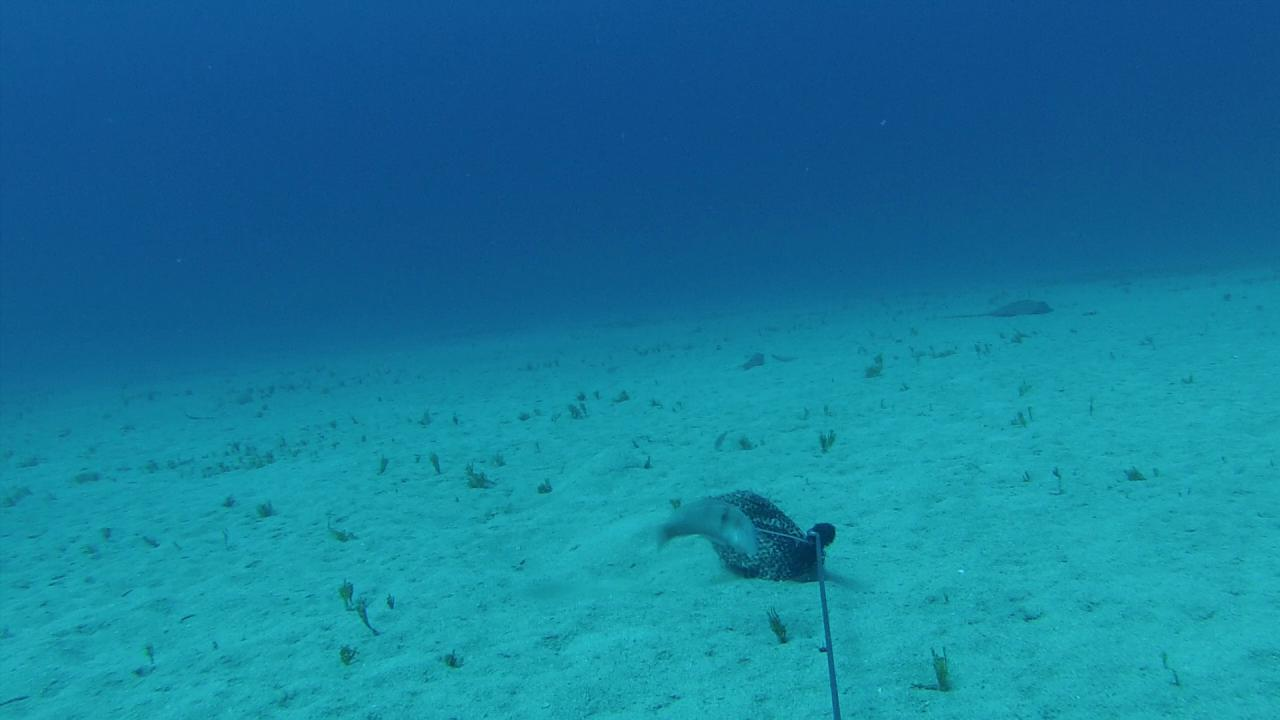dasyatis: (933, 296, 1055, 320)
raor: (644, 498, 761, 561)
